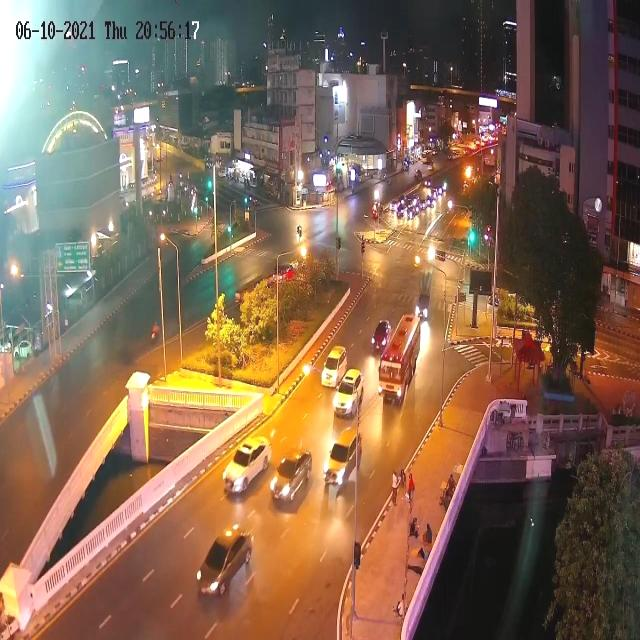Bus: (378, 315, 420, 404)
Car: (196, 523, 253, 600), (221, 434, 272, 494), (270, 447, 314, 502), (324, 427, 362, 489), (332, 368, 363, 418), (321, 345, 348, 388), (371, 319, 392, 354), (269, 262, 299, 286), (417, 293, 431, 320), (32, 333, 48, 355), (405, 198, 420, 218), (396, 199, 408, 218), (422, 148, 436, 161), (411, 148, 423, 163), (151, 322, 160, 341), (433, 185, 445, 199), (424, 193, 434, 209), (422, 157, 434, 169), (388, 200, 398, 214), (413, 168, 422, 180), (403, 158, 411, 170), (424, 179, 432, 190)
